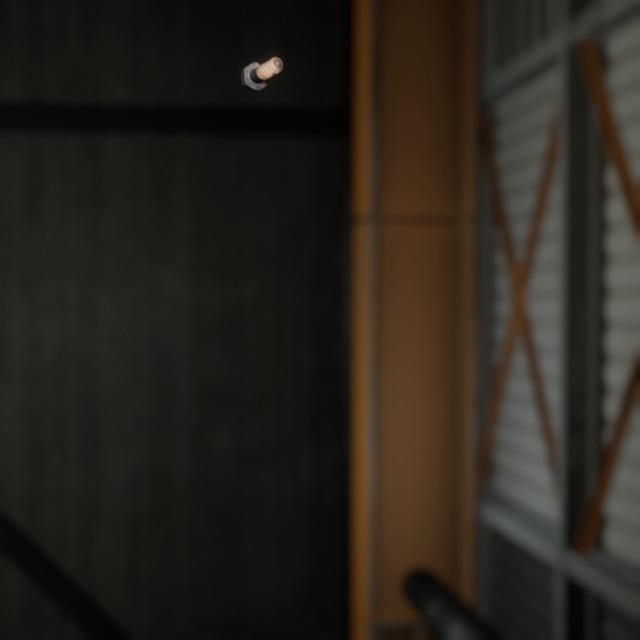bolt: (236, 41, 287, 86)
